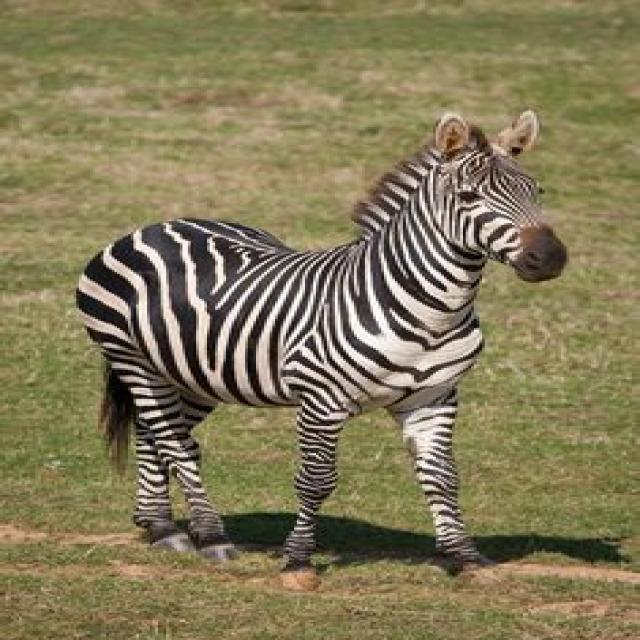Herbivorous: (76, 111, 569, 593)
